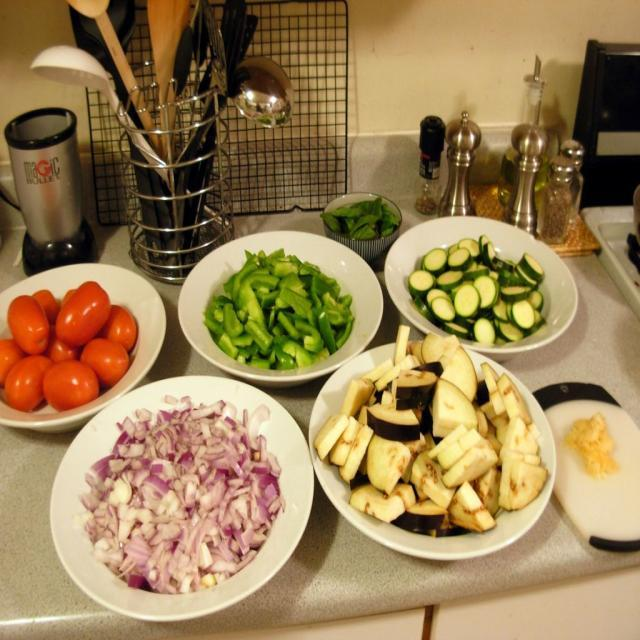Zucchini: (408, 235, 552, 344)
